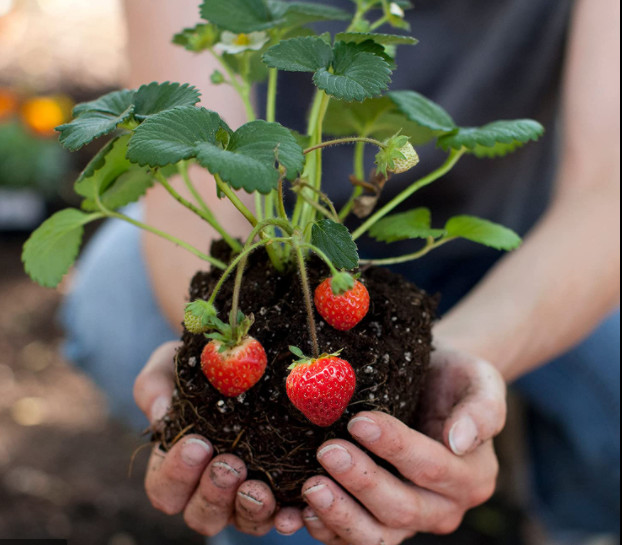ripe: (282, 355, 356, 426), (197, 329, 269, 397), (312, 266, 372, 334)
